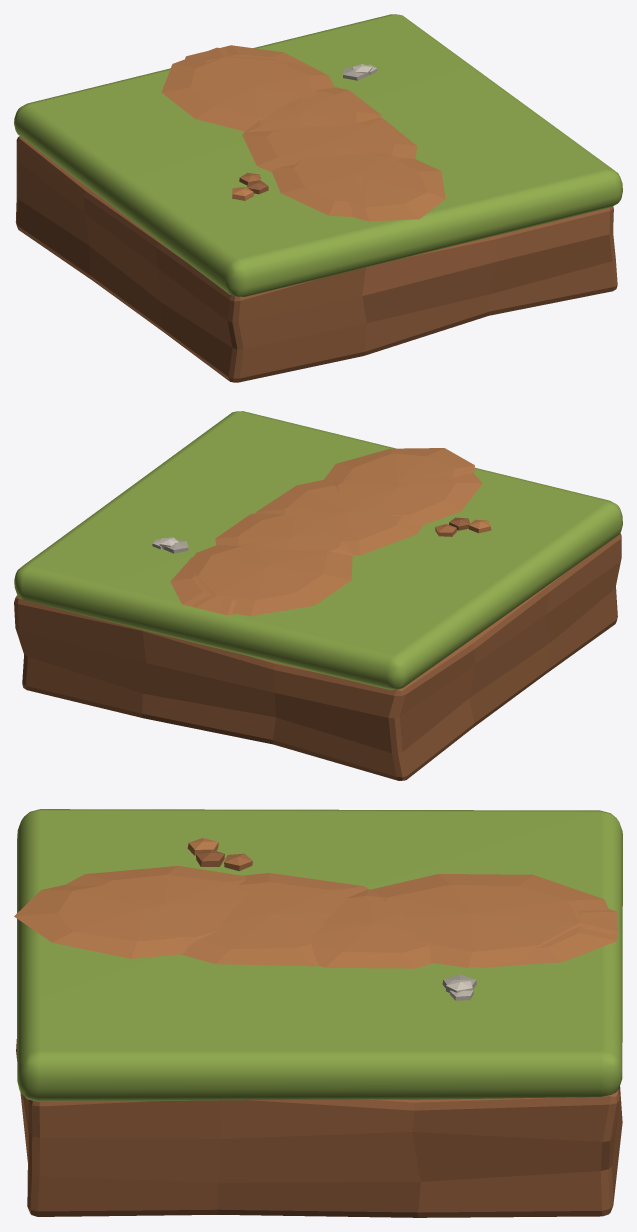
Rendered from tile_dirt_road.glb.
3 renders of one model, top to bottom at view 1: azimuth 30°, elevation 25°; view 2: azimuth 150°, elevation 25°; view 3: azimuth 270°, elevation 25°, orthographic. The views are drawn at different scales.
Visible parts, largest first — view 1: dirt_road_cap, dirt_road_body, dirt_road_lane_4, dirt_road_lane_2, dirt_road_lane_1, dirt_road_lane_0, dirt_road_lane_3, dirt_road_lane_5; view 2: dirt_road_cap, dirt_road_body, dirt_road_lane_4, dirt_road_lane_2, dirt_road_lane_1, dirt_road_lane_0, dirt_road_lane_3, dirt_road_lane_5; view 3: dirt_road_cap, dirt_road_body, dirt_road_lane_4, dirt_road_lane_2, dirt_road_lane_1, dirt_road_lane_0, dirt_road_lane_3, dirt_road_lane_5.
Boxes of the visible parts, x1,y1,x2,y2 form: dirt_road_cap: (14,14,622,296); dirt_road_body: (15,136,617,382); dirt_road_lane_4: (161,47,334,131); dirt_road_lane_2: (242,117,417,172); dirt_road_lane_1: (271,152,412,216); dirt_road_lane_0: (347,158,445,221); dirt_road_lane_3: (244,87,381,132); dirt_road_lane_5: (185,45,322,72); dirt_road_cap: (14,411,622,690); dirt_road_body: (14,532,621,780); dirt_road_lane_4: (188,543,352,615); dirt_road_lane_2: (256,479,422,555); dirt_road_lane_1: (331,467,482,525); dirt_road_lane_0: (324,448,474,482); dirt_road_lane_3: (215,513,353,555); dirt_road_lane_5: (170,557,237,615); dirt_road_cap: (17,809,622,1101); dirt_road_body: (16,1039,622,1217); dirt_road_lane_4: (370,874,618,967); dirt_road_lane_2: (181,873,368,966); dirt_road_lane_1: (65,866,247,945); dirt_road_lane_0: (14,885,188,958); dirt_road_lane_3: (311,889,433,968); dirt_road_lane_5: (478,909,617,967).
Size of the model in its own units: 1.71 by 0.5545 by 1.71.
